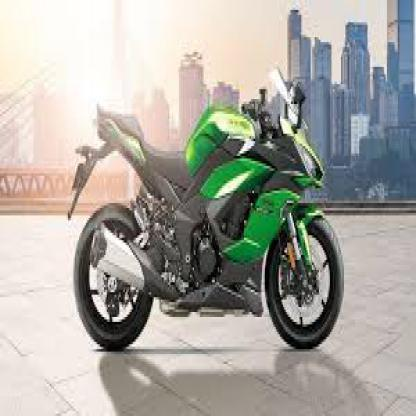Motorcycle: (63, 49, 349, 367)
